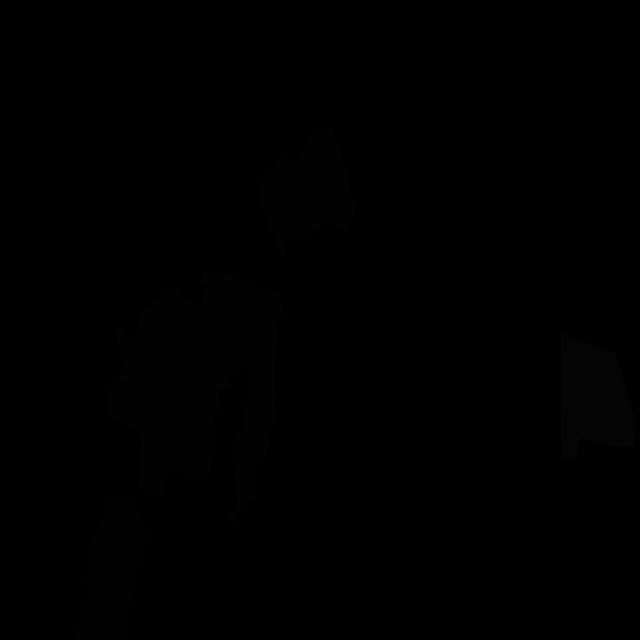cardboard: (104, 288, 220, 497), (200, 272, 284, 524), (256, 125, 356, 258)
rigid_plastic: (74, 487, 148, 640)
soft_plastic: (560, 329, 637, 459)
